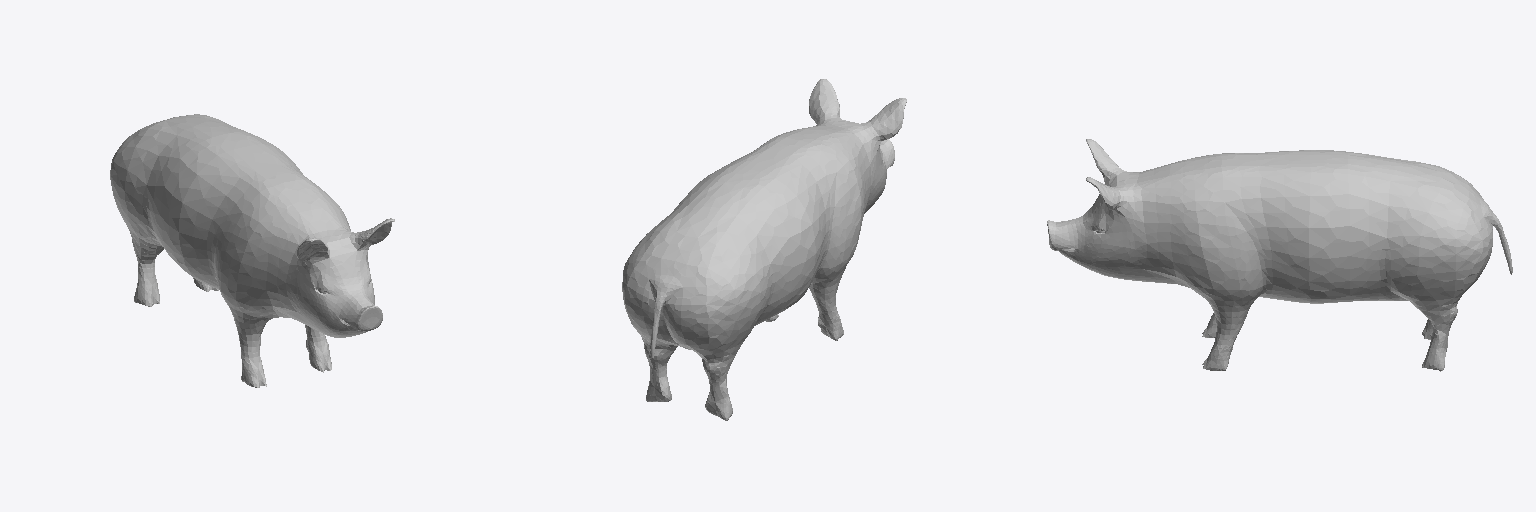
Rendered from pigY1.obj.
3 views of the same model, side by side, from view 1: azimuth 30°, elevation 25°; view 2: azimuth 150°, elevation 25°; view 3: azimuth 270°, elevation 25° (orthographic).
Parts seen in each view (by area): view 1: pig; view 2: pig; view 3: pig.
Boxes of the visible parts, x1=… form: pig: x1=110, y1=114, x2=394, y2=387; pig: x1=622, y1=79, x2=906, y2=420; pig: x1=1047, y1=139, x2=1512, y2=371.
Size of the model in its own units: 1.01 by 1.49 by 3.23.